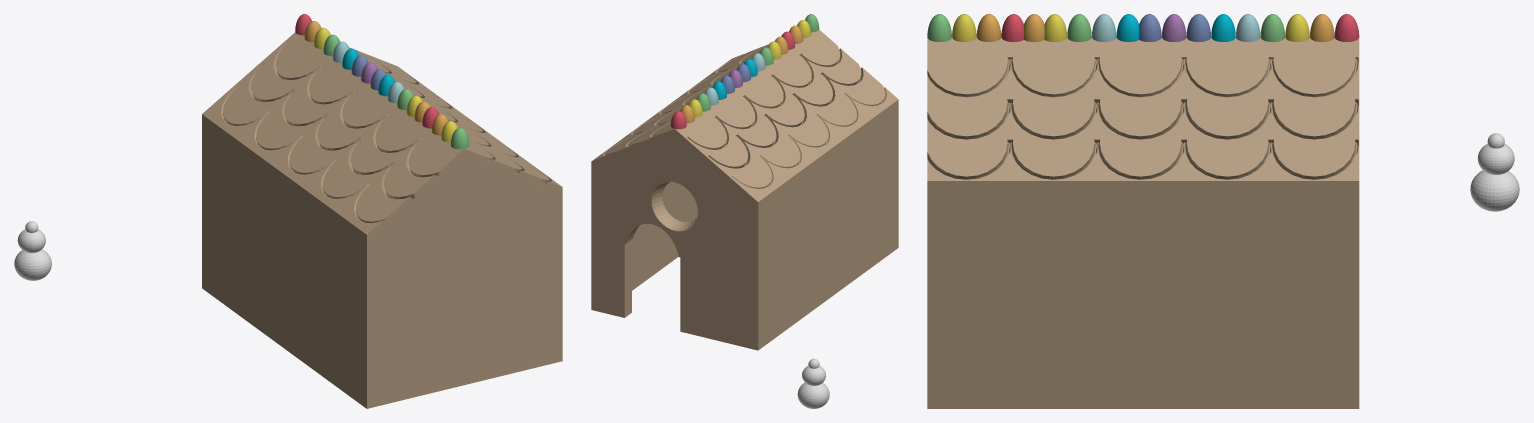
The model's file is gum-drop-house.glb.
3 renders of one model, left to right at view 1: azimuth 30°, elevation 25°; view 2: azimuth 150°, elevation 25°; view 3: azimuth 270°, elevation 25°, orthographic. The views are drawn at different scales.
Visible parts, largest first — view 1: Mesh_Mesh_head_geo.001_lambert2SG.001; view 2: Mesh_Mesh_head_geo.001_lambert2SG.001; view 3: Mesh_Mesh_head_geo.001_lambert2SG.001.
Boxes of the visible parts, box(x1,y1,x2,y2) form: Mesh_Mesh_head_geo.001_lambert2SG.001: box(14, 14, 562, 408); Mesh_Mesh_head_geo.001_lambert2SG.001: box(591, 14, 898, 408); Mesh_Mesh_head_geo.001_lambert2SG.001: box(927, 14, 1519, 408).
Size of the model in its own units: 121 by 89 by 144.
